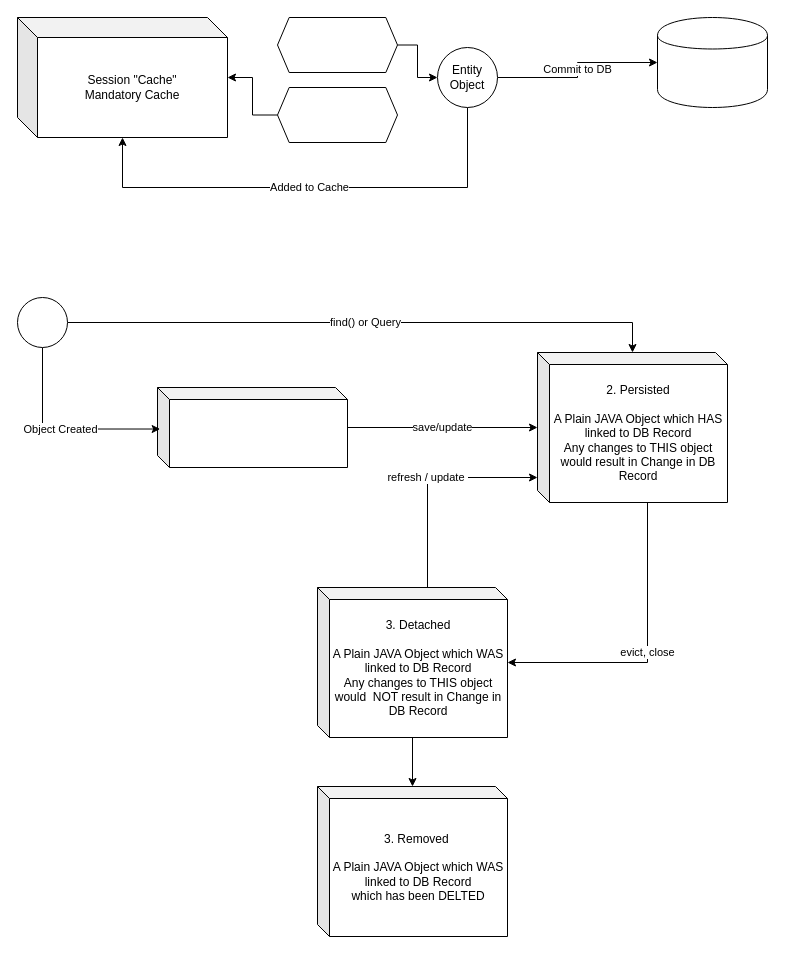
The diagram is 785 pixels wide and 954 high, and some of its shapes have lost their labels. Each missing label, with the box of its shape:
1. Transient A Plain JAVA Object which was NEVER linked to DB Record: (156, 386, 348, 468)
FIND: (276, 86, 398, 142)
INSERT (Save): (276, 16, 398, 72)
